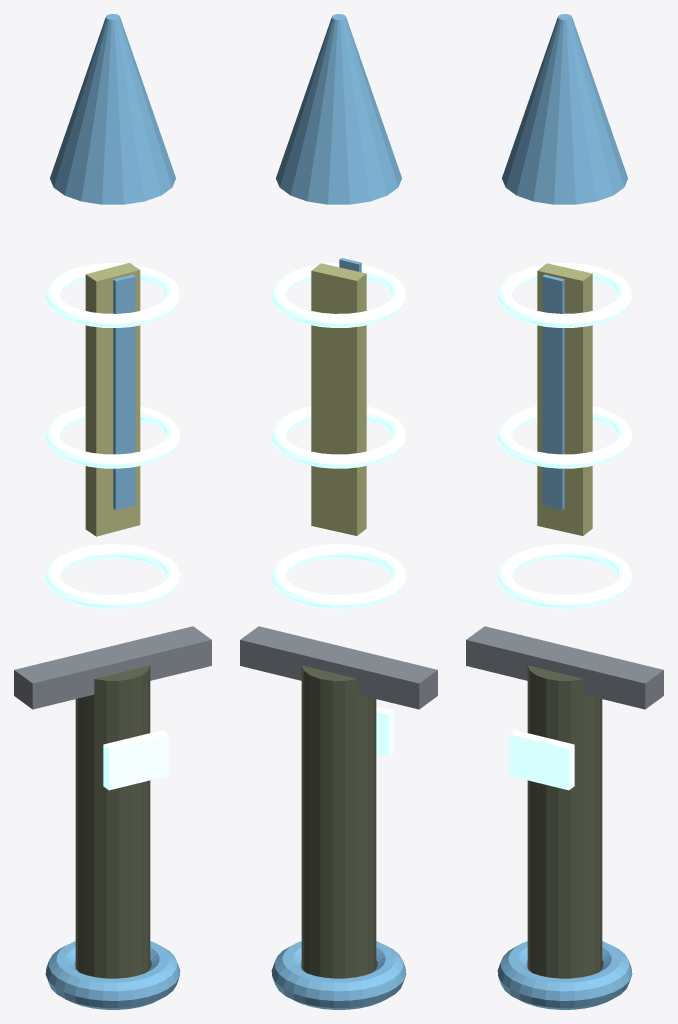
File: asset.glb
The picture shows the model from 3 angles, left to right: view 1: azimuth 30°, elevation 25°; view 2: azimuth 150°, elevation 25°; view 3: azimuth 330°, elevation 25°; orthographic projection.
Visible parts, largest first — view 1: Grip, BladeTip, BladeCore, Guard, Pommel, BladeEdge, EnergyBand_1.18, EnergyBand_2.26, EnergyBand_1.72, IdentityPlate; view 2: Grip, BladeTip, BladeCore, Guard, Pommel, EnergyBand_1.18, EnergyBand_2.26, EnergyBand_1.72, IdentityPlate; view 3: Grip, BladeTip, BladeCore, Guard, Pommel, BladeEdge, EnergyBand_1.18, EnergyBand_2.26, EnergyBand_1.72, IdentityPlate.
Part boxes in pixels (x1=…): Grip: x1=75, y1=665, x2=150, y2=978; BladeTip: x1=50, y1=14, x2=175, y2=204; BladeCore: x1=85, y1=263, x2=140, y2=536; Guard: x1=14, y1=626, x2=211, y2=709; Pommel: x1=45, y1=941, x2=180, y2=1009; BladeEdge: x1=113, y1=274, x2=135, y2=510; EnergyBand_1.18: x1=45, y1=544, x2=180, y2=609; EnergyBand_2.26: x1=45, y1=263, x2=180, y2=327; EnergyBand_1.72: x1=45, y1=406, x2=180, y2=468; IdentityPlate: x1=103, y1=730, x2=168, y2=790; Grip: x1=301, y1=665, x2=376, y2=978; BladeTip: x1=276, y1=14, x2=401, y2=204; BladeCore: x1=311, y1=263, x2=366, y2=535; Guard: x1=240, y1=626, x2=437, y2=709; Pommel: x1=271, y1=941, x2=406, y2=1009; EnergyBand_1.18: x1=271, y1=544, x2=406, y2=609; EnergyBand_2.26: x1=271, y1=263, x2=406, y2=327; EnergyBand_1.72: x1=271, y1=406, x2=406, y2=468; IdentityPlate: x1=376, y1=706, x2=394, y2=756; Grip: x1=527, y1=665, x2=602, y2=978; BladeTip: x1=502, y1=14, x2=627, y2=204; BladeCore: x1=537, y1=263, x2=592, y2=535; Guard: x1=466, y1=626, x2=663, y2=709; Pommel: x1=497, y1=941, x2=632, y2=1009; BladeEdge: x1=542, y1=274, x2=564, y2=510; EnergyBand_1.18: x1=497, y1=544, x2=632, y2=609; EnergyBand_2.26: x1=497, y1=263, x2=632, y2=327; EnergyBand_1.72: x1=497, y1=406, x2=632, y2=468; IdentityPlate: x1=509, y1=730, x2=574, y2=790.
Size of the model in its own units: 0.72 by 3.72 by 0.47.
